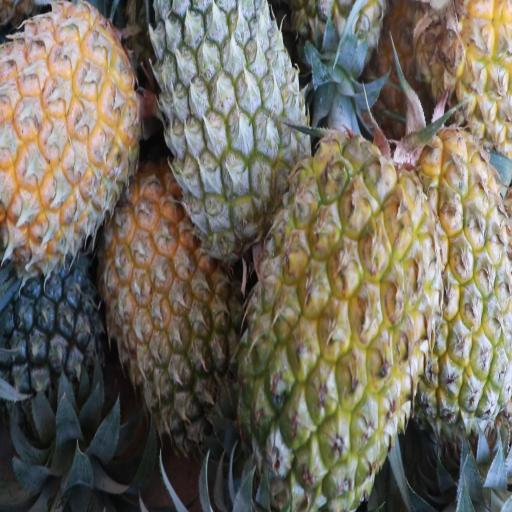------------------------------: (110, 176, 244, 448)
Pineapple - v8 v1: (241, 130, 442, 498), (395, 125, 512, 432), (0, 6, 138, 266)
